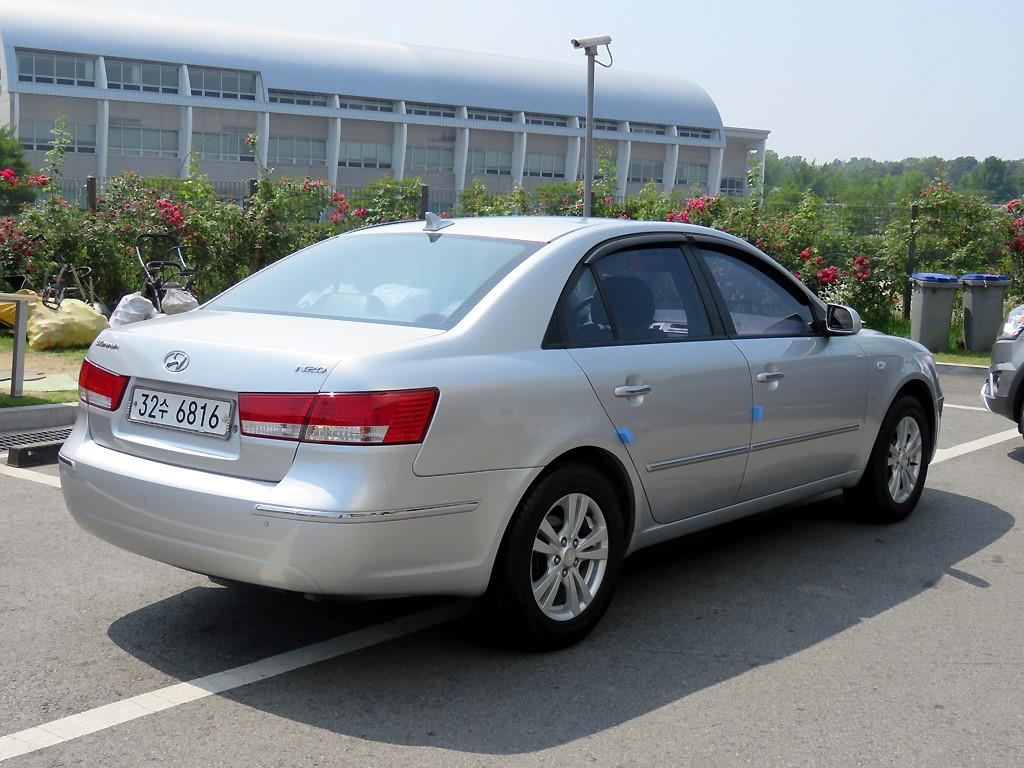plate: (130, 388, 231, 436)
